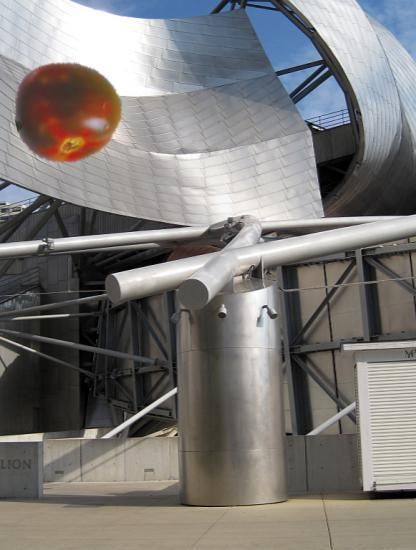Tomato: (14, 57, 124, 167)
